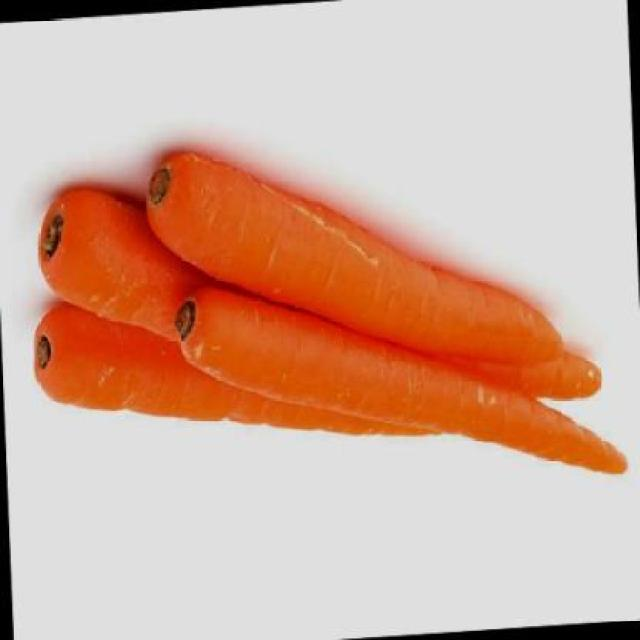carrot: (141, 125, 562, 390), (172, 262, 626, 503), (31, 282, 442, 460), (35, 175, 237, 356), (427, 336, 601, 409)
